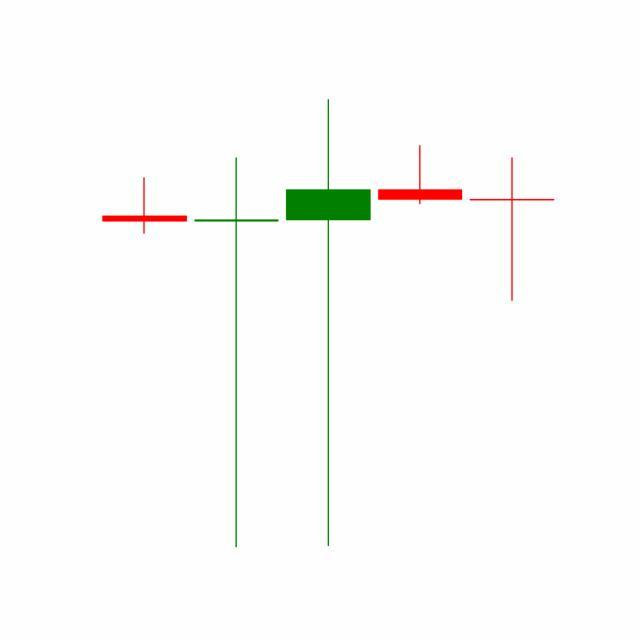Gravestone Doji: (374, 145, 468, 206)
